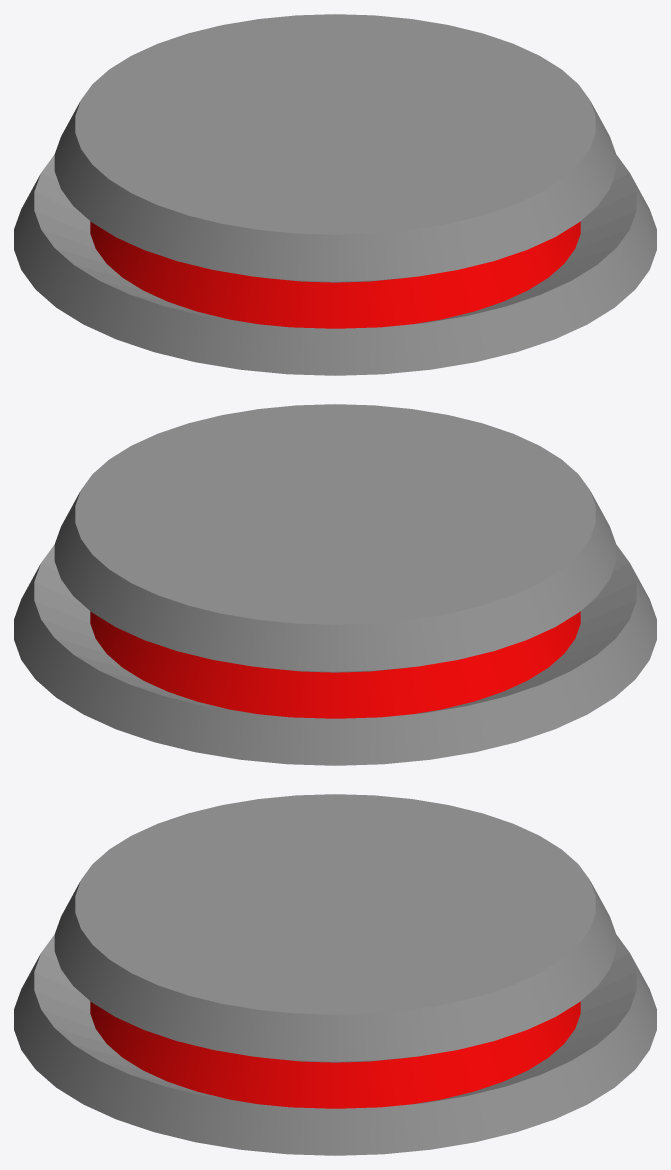
The model's file is startplatform.FBX.
3 views of the same model, one above another, from view 1: azimuth 30°, elevation 25°; view 2: azimuth 150°, elevation 25°; view 3: azimuth 270°, elevation 25° (orthographic).
Parts seen in each view (by area): view 1: Object001; view 2: Object001; view 3: Object001.
Boxes of the visible parts, x1,y1,x2,y2 form: Object001: (14, 14, 656, 375); Object001: (14, 404, 656, 765); Object001: (14, 794, 656, 1155).
Size of the model in its own units: 96.02 by 18.92 by 95.76.
